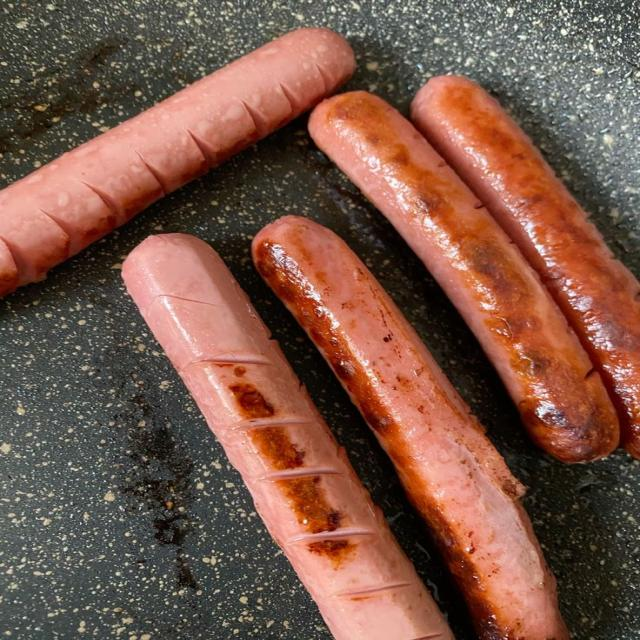sausage: (123, 235, 453, 639), (253, 217, 567, 639), (310, 92, 619, 463), (0, 29, 354, 295), (412, 76, 639, 457), (0, 241, 18, 290)
